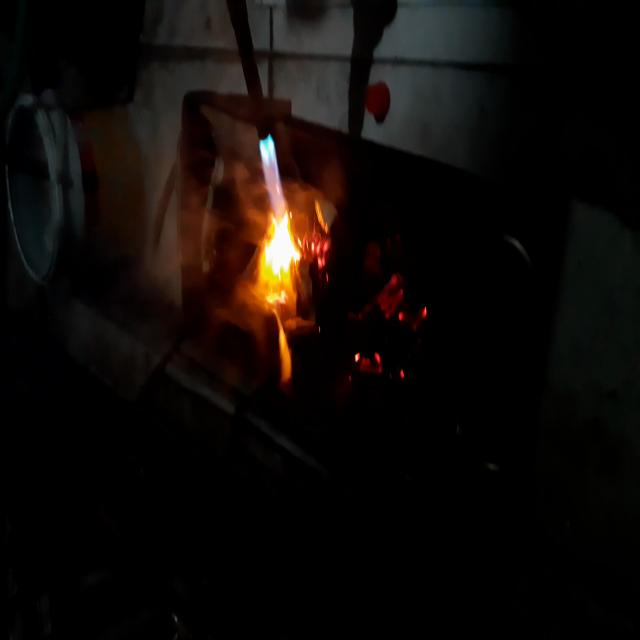Fire: (347, 254, 450, 414), (242, 121, 304, 314)
